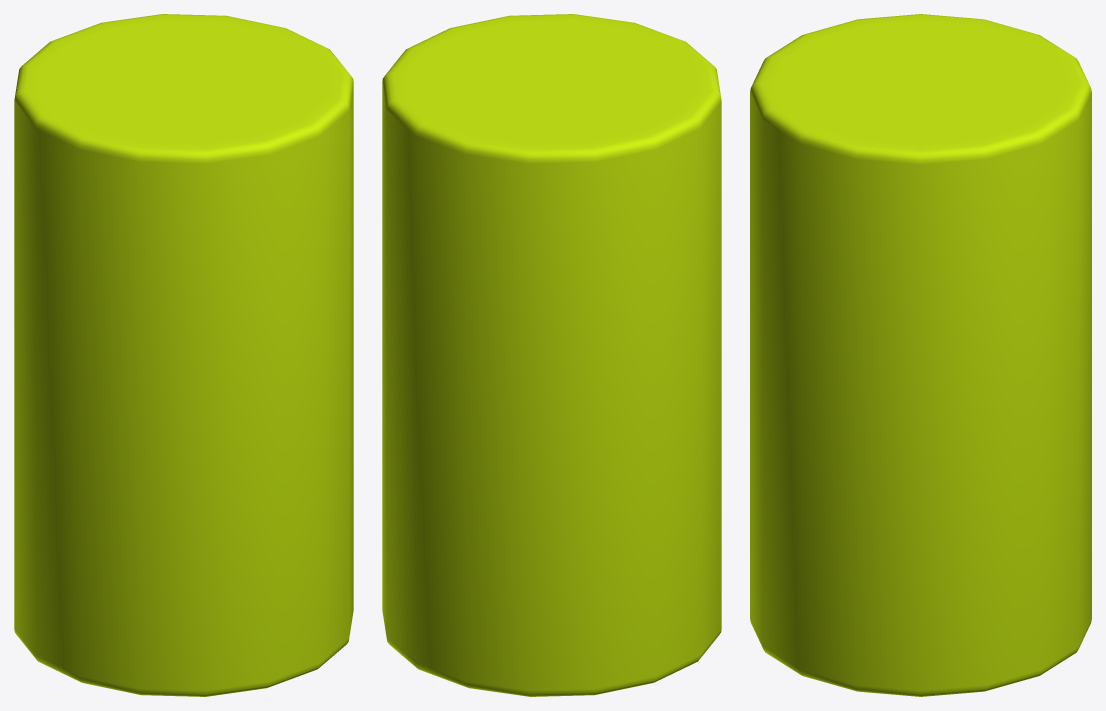
File: Prop_Cylinder.fbx
The picture shows the model from 3 angles, left to right: view 1: azimuth 30°, elevation 25°; view 2: azimuth 150°, elevation 25°; view 3: azimuth 270°, elevation 25°; orthographic projection.
Parts seen in each view (by area): view 1: Prop_Cylinder; view 2: Prop_Cylinder; view 3: Prop_Cylinder.
Boxes of the visible parts, x1=… form: Prop_Cylinder: x1=14, y1=14, x2=353, y2=696; Prop_Cylinder: x1=382, y1=14, x2=721, y2=696; Prop_Cylinder: x1=750, y1=14, x2=1091, y2=696.
Bounding box in the file's own units: 1.3 × 2.29 × 1.3.
